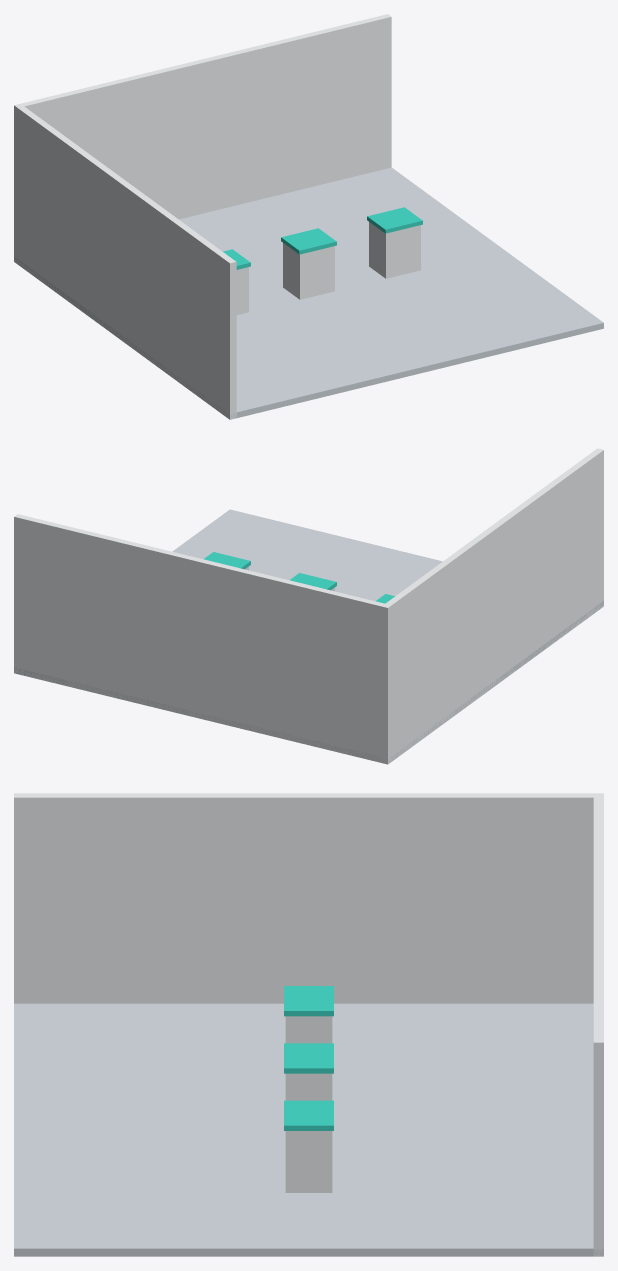
3 views of the same model, one above another, from view 1: azimuth 30°, elevation 25°; view 2: azimuth 150°, elevation 25°; view 3: azimuth 270°, elevation 25° (orthographic). The views are drawn at different scales.
Visible parts, largest first — view 1: Exhibition Booth Concept; view 2: Exhibition Booth Concept; view 3: Exhibition Booth Concept.
Boxes of the visible parts, box(x1,y1,x2,y2) form: Exhibition Booth Concept: box(14, 14, 603, 419); Exhibition Booth Concept: box(14, 448, 603, 764); Exhibition Booth Concept: box(14, 793, 603, 1256).
Bounding box in the file's own units: 8 × 3.2 × 8.
